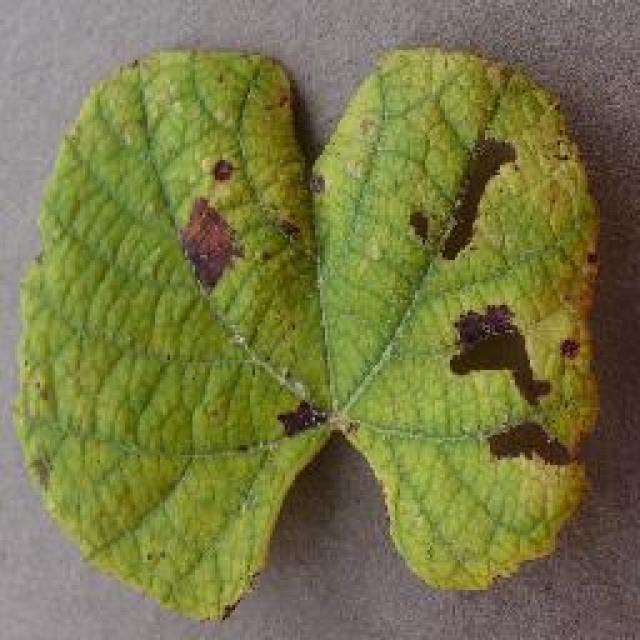Blight Fungus: (43, 26, 593, 622)
